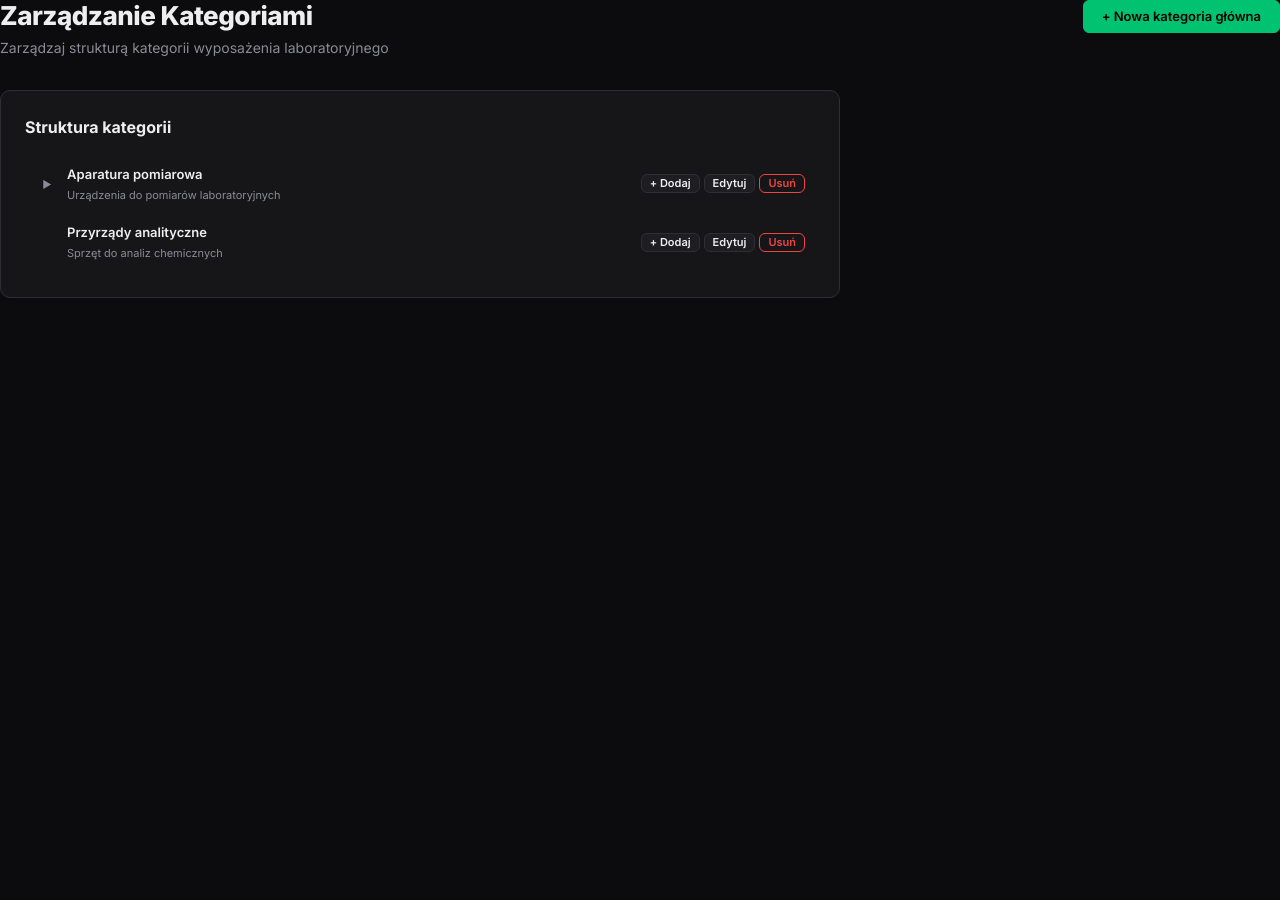
Test case: CategoriesPage › Edit category › should open edit dialog when "Edit" clicked on a category
Click the button "Edytuj" in the row of "Urządzenia do pomiarów laboratoryjnych": (730, 184) [704,174,755,194]
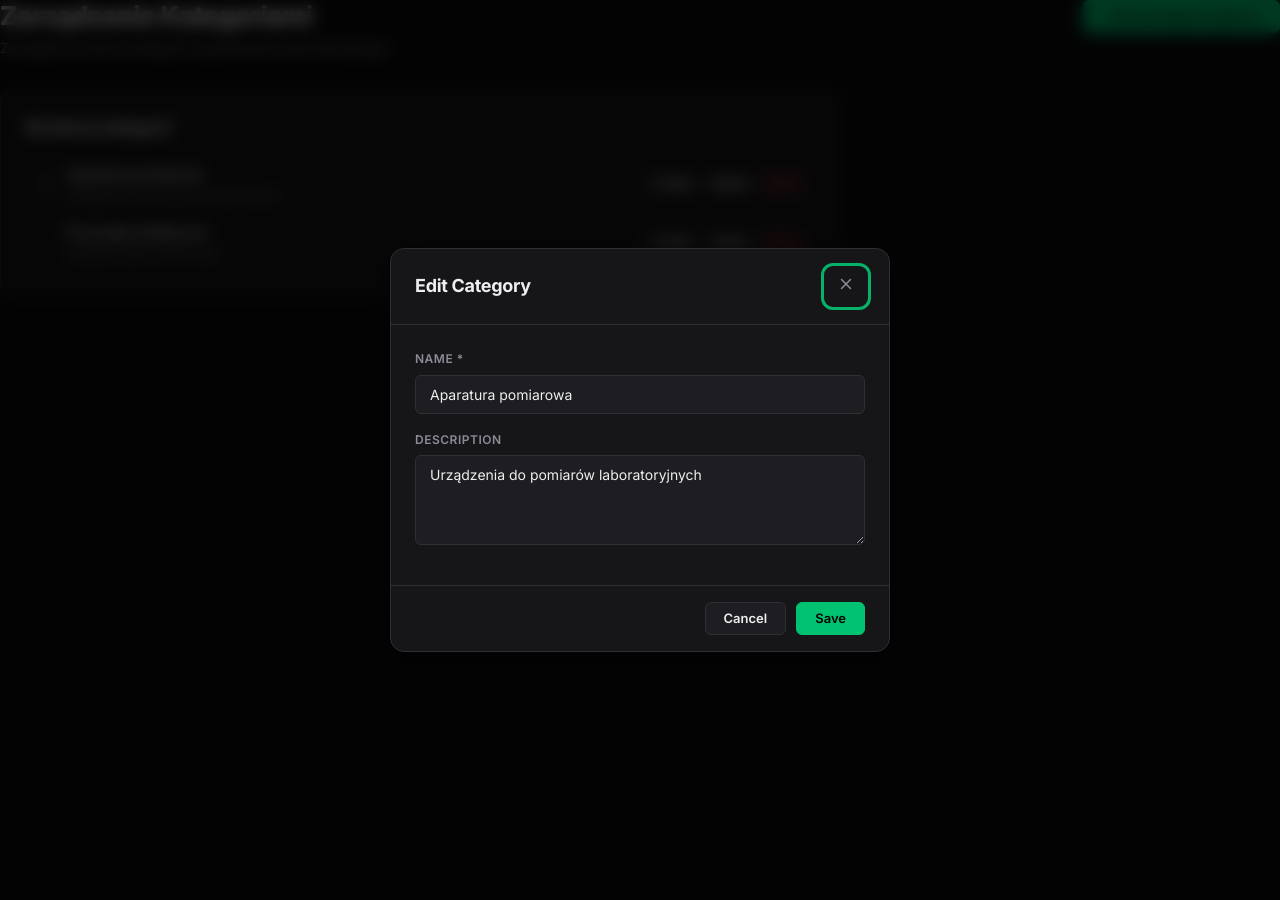
Check: the heading "Edit Category" is shown, box [415,272,531,301]
